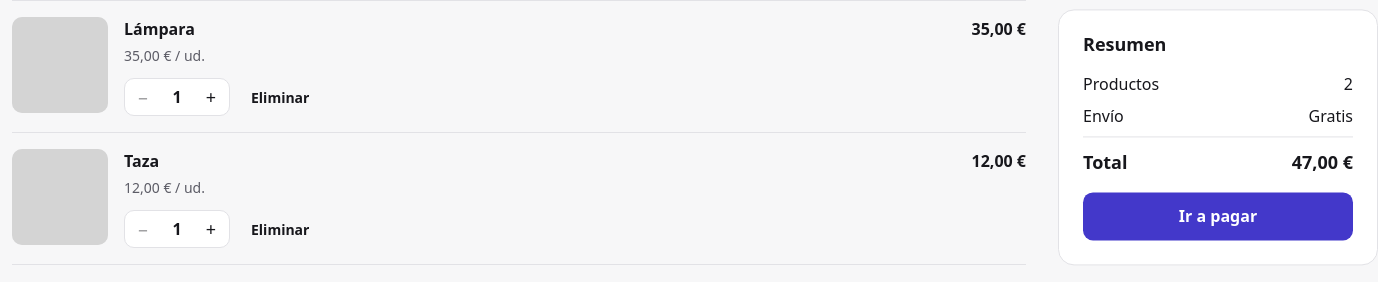
Test: CartView › cambia la cantidad y elimina líneas
The image size is (1378, 282).
Click the button named "Añadir una unidad de Lámpara" at [211, 97], box [193,79,229,115]
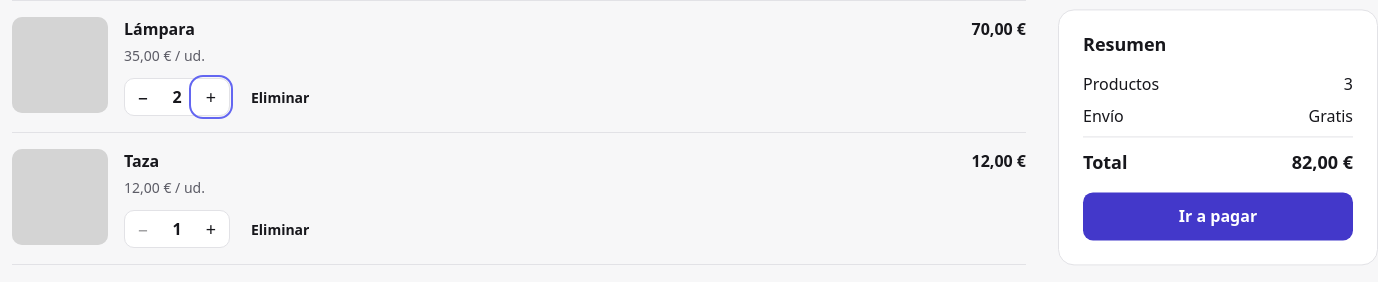
Check: the element named "Cantidad de Lámpara" shows "2", box [172,86,182,108]
Click the button with aria-label "Eliminar Taza del carrito" at [280, 229], box [238,213,322,245]
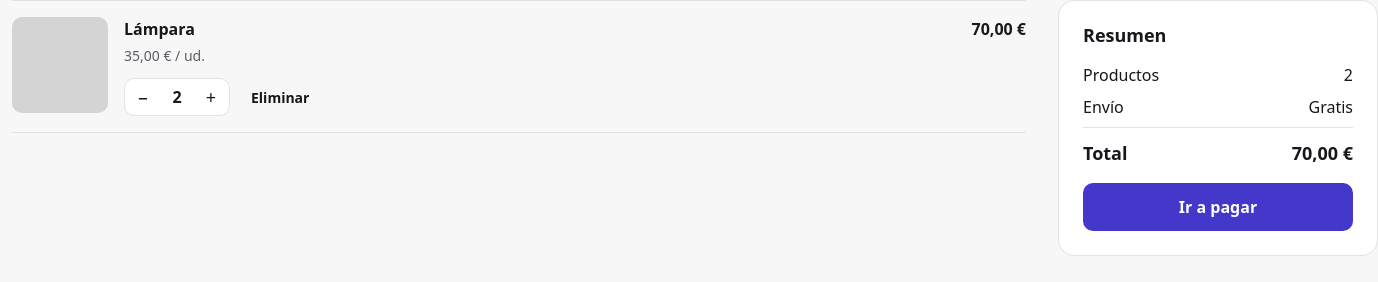
Check: the link "Taza" is gone
Click the button with aria-label "Eliminar Lámpara del carrito" at [280, 97], box [238,81,322,113]
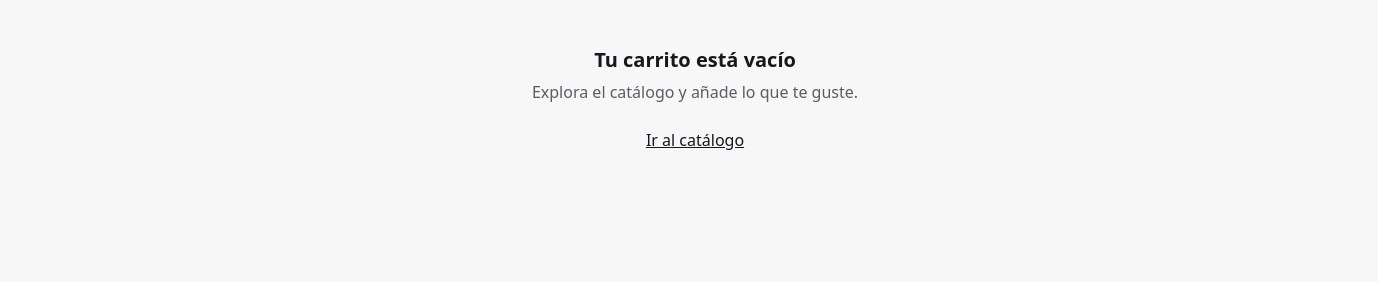
Check: the heading "Tu carrito está vacío" is shown, box [594,48,796,72]
